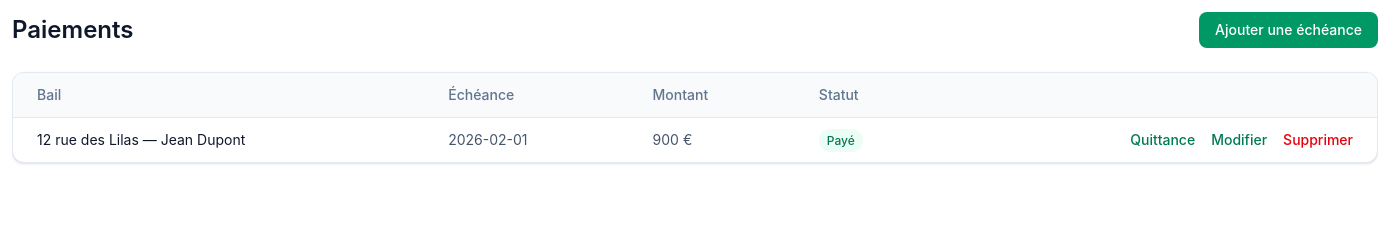
Scenario: PaymentsPage › affiche le message serveur si la suppression échoue et garde l'échéance dans la liste
Expected: the text "12 rue des Lilas — Jean Dupont" is shown, x1=13 y1=118 x2=424 y2=162
Click the button "Supprimer" at (1318, 140), box x1=1283 y1=130 x2=1353 y2=150
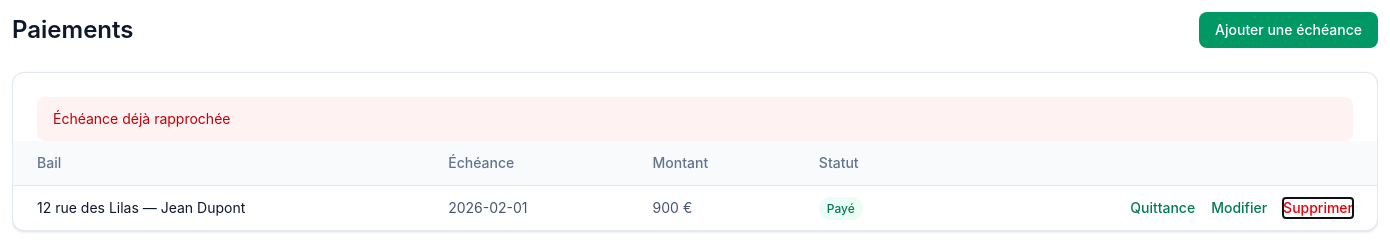
Expected: the text "12 rue des Lilas — Jean Dupont" is shown, x1=13 y1=186 x2=424 y2=230
Now the message reads "Échéance déjà rapprochée", box x1=53 y1=110 x2=230 y2=127
